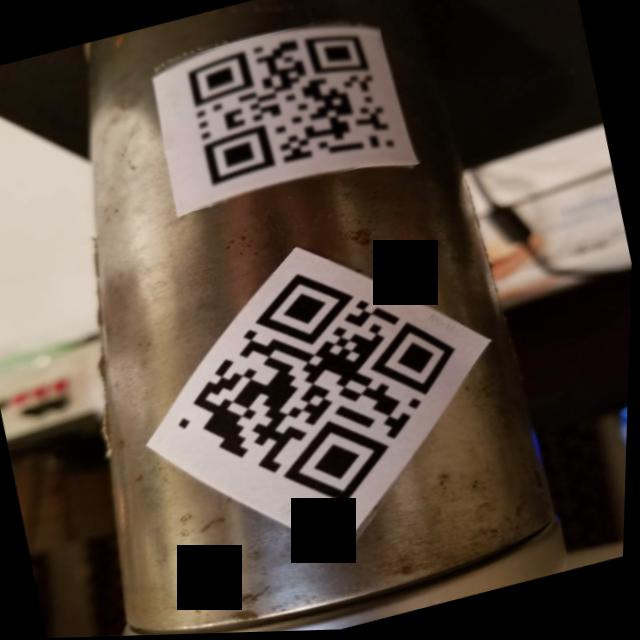QR_CODE: (139, 231, 498, 555), (160, 7, 410, 212)
